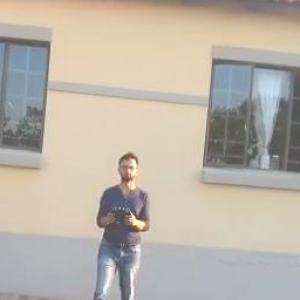follow: (73, 144, 156, 299)
